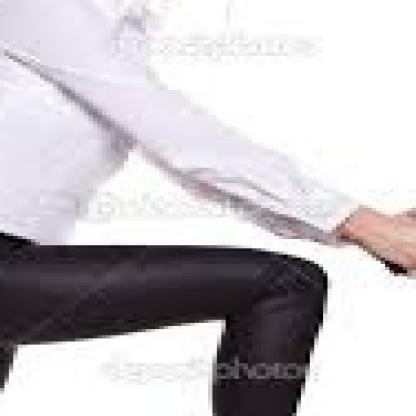gun: (367, 198, 412, 314)
